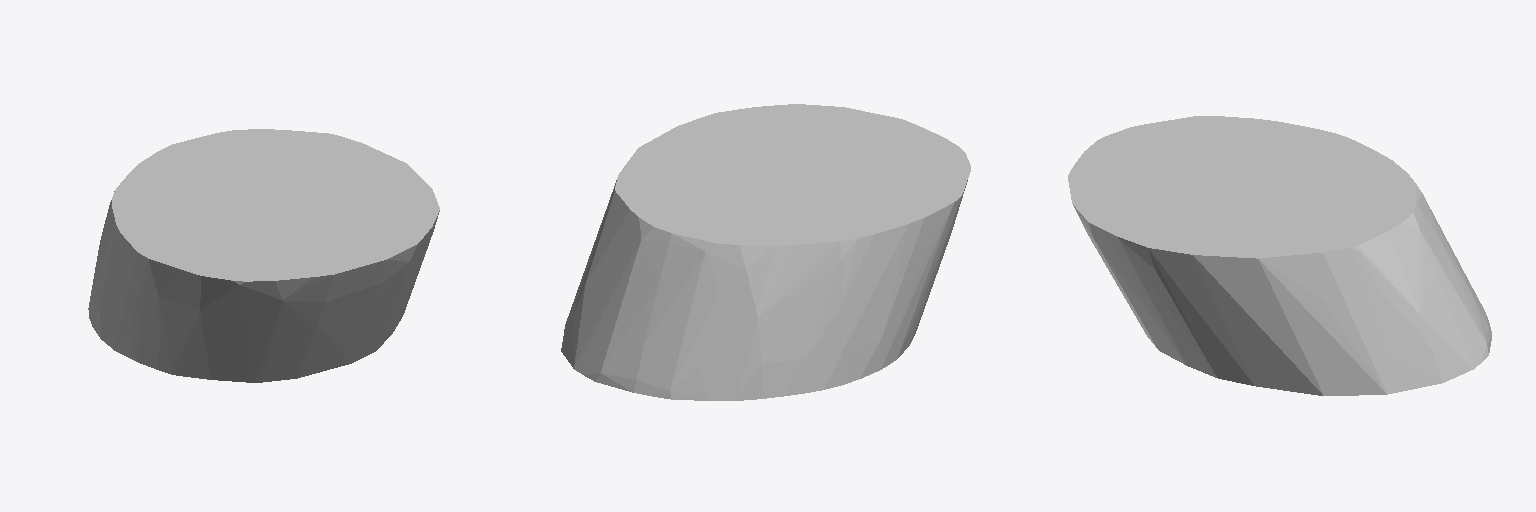
Rendered from phantom-elastrat_collision_138.obj.
3 views of the same model, side by side, from view 1: azimuth 30°, elevation 25°; view 2: azimuth 150°, elevation 25°; view 3: azimuth 270°, elevation 25° (orthographic).
Bounding box in the file's own units: 0.0063 × 0.0026 × 0.0076.